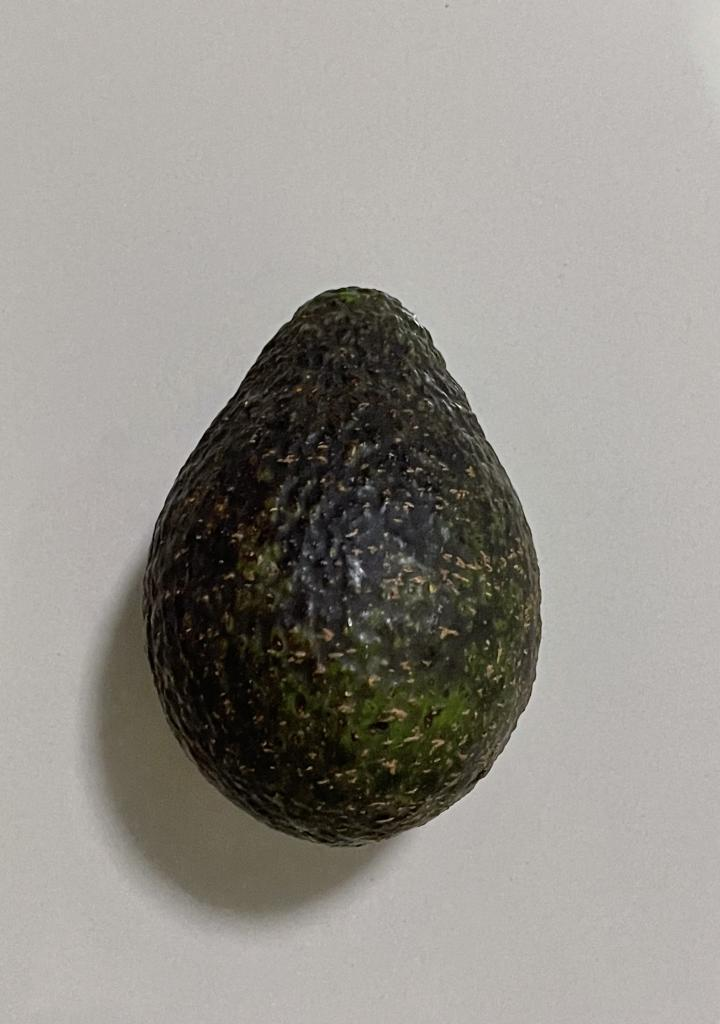Level1: (121, 259, 564, 864)
